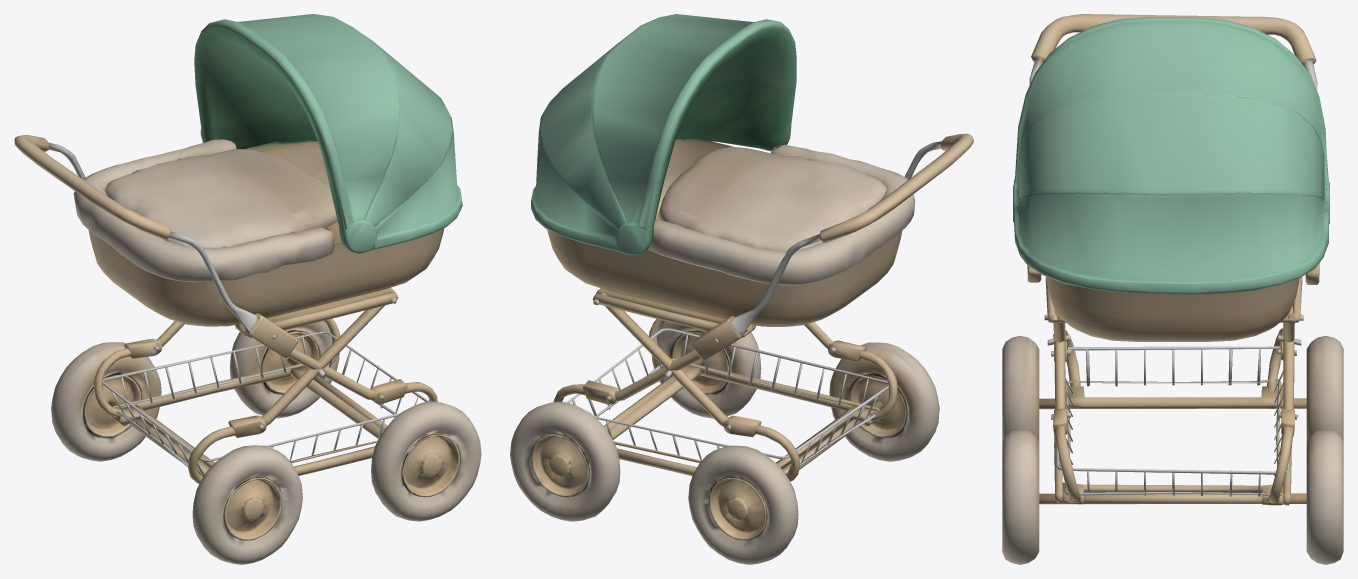
3 views of the same model, side by side, from view 1: azimuth 30°, elevation 25°; view 2: azimuth 150°, elevation 25°; view 3: azimuth 270°, elevation 25° (orthographic). The views are drawn at different scales.
Visible parts, largest first — view 1: tripo_node_f8aea804-86a5-478e-b2f5-3f916e25456f; view 2: tripo_node_f8aea804-86a5-478e-b2f5-3f916e25456f; view 3: tripo_node_f8aea804-86a5-478e-b2f5-3f916e25456f.
Part boxes in pixels (<box>): tripo_node_f8aea804-86a5-478e-b2f5-3f916e25456f: <box>14,14,481,564</box>; tripo_node_f8aea804-86a5-478e-b2f5-3f916e25456f: <box>510,14,973,564</box>; tripo_node_f8aea804-86a5-478e-b2f5-3f916e25456f: <box>1002,14,1343,564</box>.
Size of the model in its own units: 0.8418 by 0.998 by 0.6309.
1 material, 1 textured.
